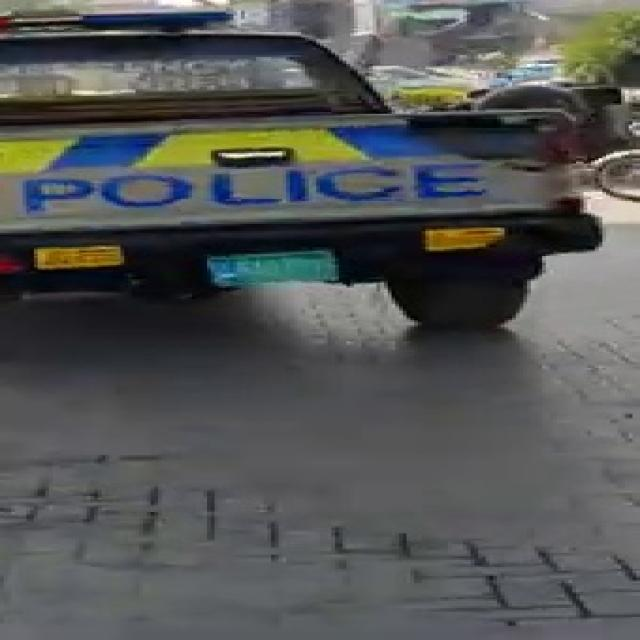police: (0, 16, 544, 326)
